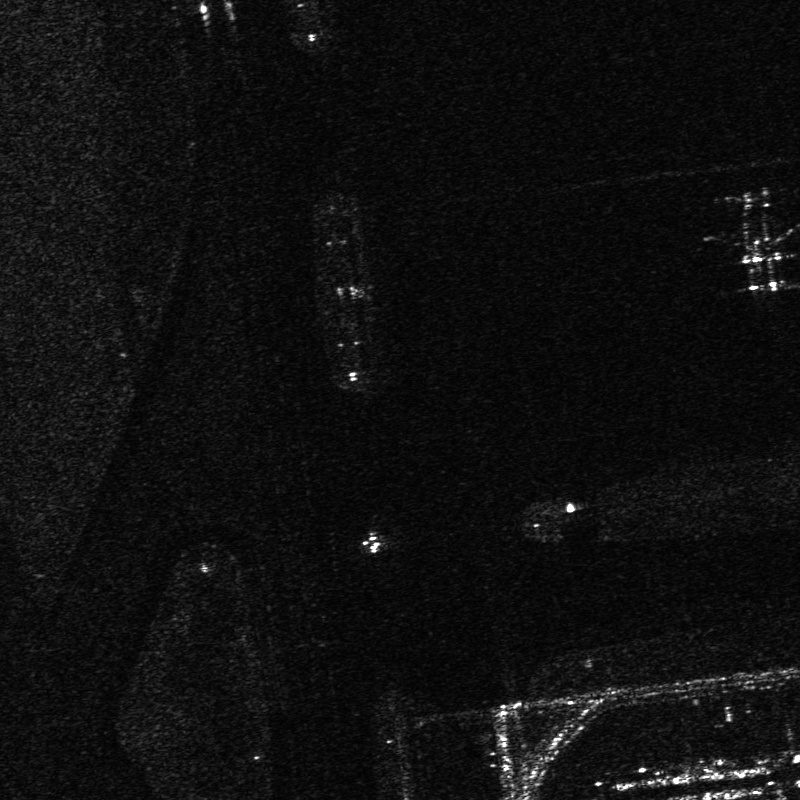A330: (709, 180, 799, 291)
